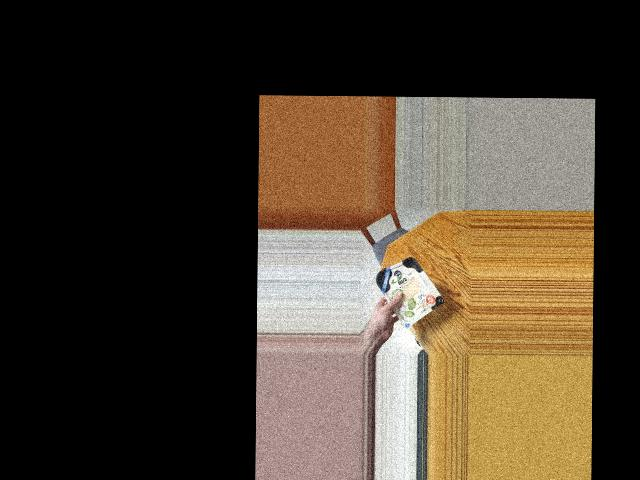cheese: (371, 259, 440, 317)
